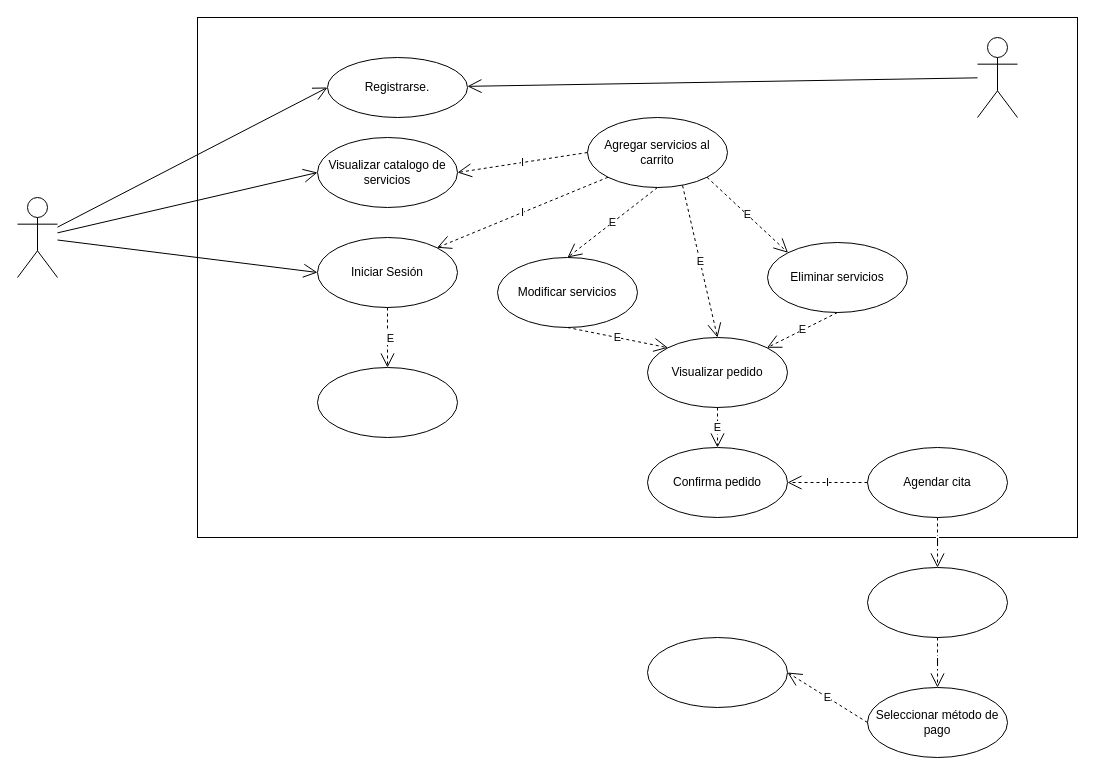
The diagram is 1095 pixels wide and 775 high, and some of its shapes have lost their labels. The box of each missing label's shape, as (x1, y1, x2, y2) in pixels:
Base de datos de usuarios: (976, 36, 1018, 118)
Enviar quejas y sugerencias: (316, 366, 458, 438)
Usuario: (16, 196, 58, 278)
Visualizar citas: (646, 636, 788, 708)
Visualizar método de pago: (866, 566, 1008, 638)
